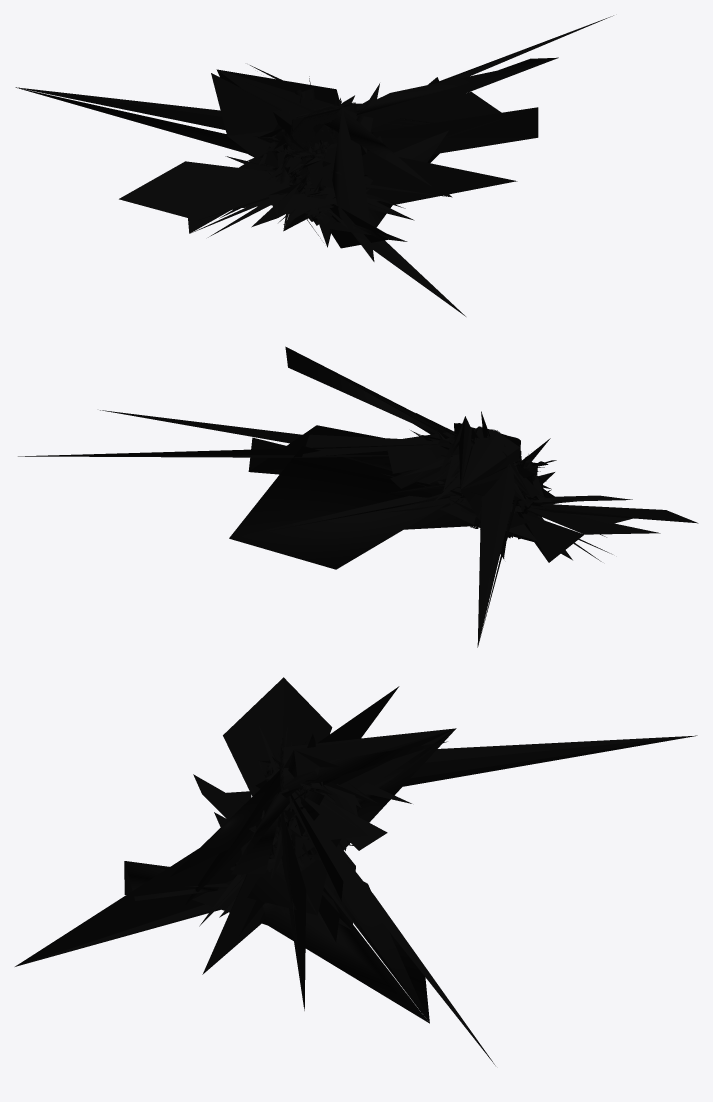
Rendered from trellis2-cloth-sim.glb.
The picture shows the model from 3 angles, top to bottom: view 1: azimuth 30°, elevation 25°; view 2: azimuth 150°, elevation 25°; view 3: azimuth 270°, elevation 25°; orthographic projection. The views are drawn at different scales.
Visible parts, largest first — view 1: OSS_trellis2_Garment; view 2: OSS_trellis2_Garment; view 3: OSS_trellis2_Garment.
Part boxes in pixels (x1,y1,x2,y2): OSS_trellis2_Garment: [15, 15, 613, 316]; OSS_trellis2_Garment: [18, 346, 698, 647]; OSS_trellis2_Garment: [15, 677, 697, 1065].
Bounding box in the file's own units: 5.95 × 1.67 × 4.65.
1 material, 1 textured.
